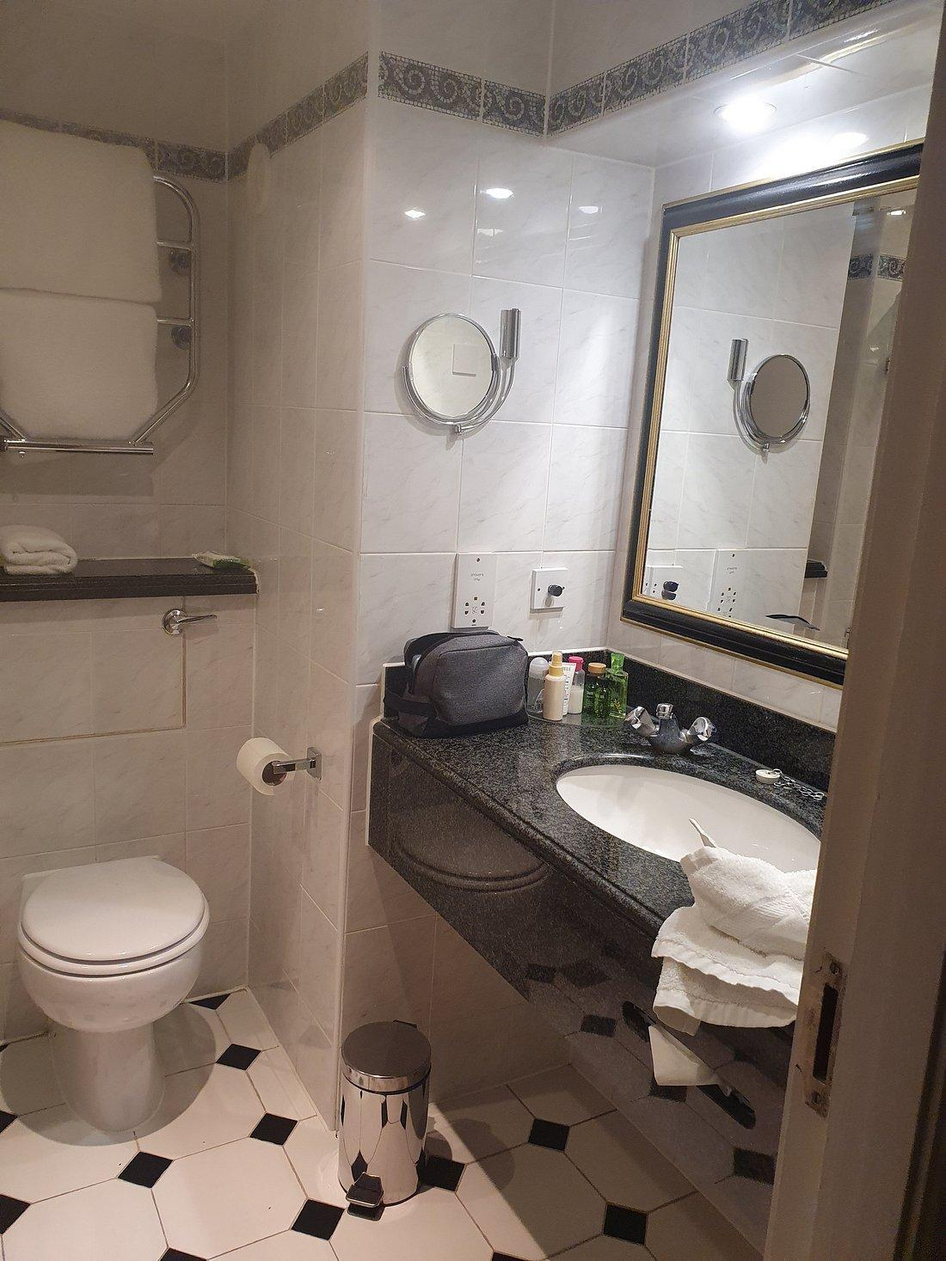clean_floor: (0, 993, 755, 1260)
clean_sink: (516, 735, 845, 870)
disorganized_towel: (639, 860, 821, 1042)
folded_towel: (0, 114, 211, 458), (0, 524, 77, 582)
